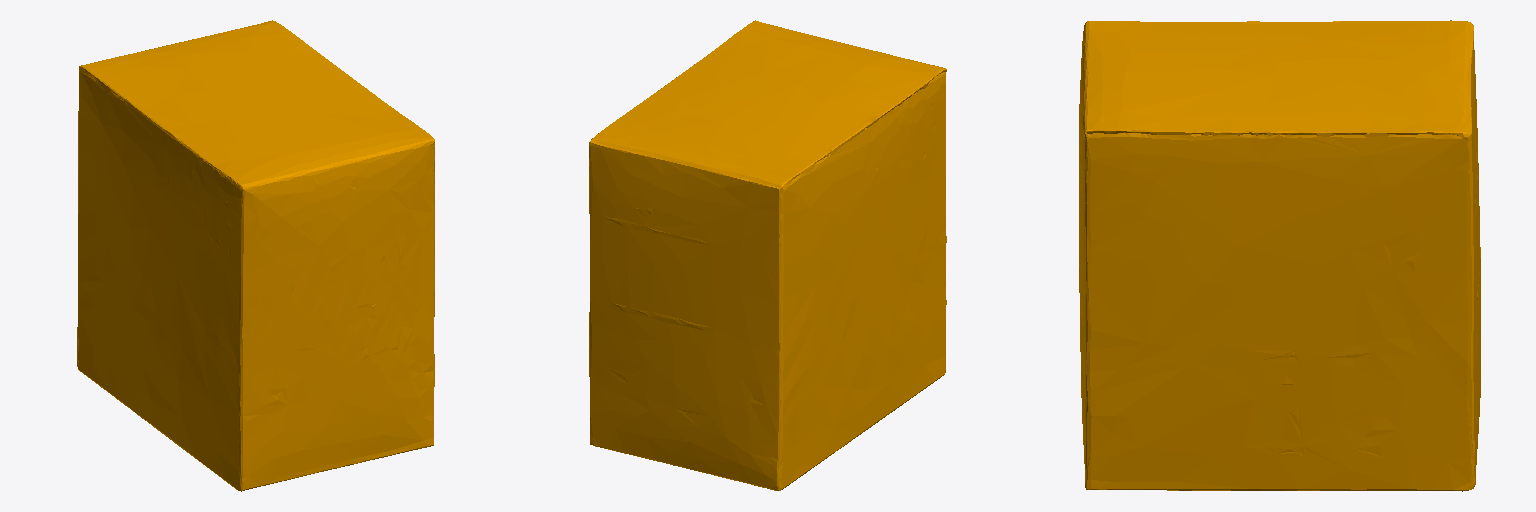
robot.urdf — Whey_Protein_Vanilla_12_Packets:

<robot name="Whey_Protein_Vanilla_12_Packets">
    <link name="base">
        <inertial>
            <origin xyz="-1.8597612255748765e-18 1.8597612255748765e-18 0.0" />
            <mass value="0.0024290801366861027" />
            <inertia ixx="9.484500130978977e-06" ixy="-9.43417201880489e-09" 
                     ixz="-1.6531240636526768e-10" iyy="6.9104506556242484e-06" 
                     iyz="2.690555408703888e-08" izz="6.831884221215333e-06" />
        </inertial>
        <visual>
            <origin xyz="0 0 0" />
            <geometry>
                <mesh filename="visual_geometry.obj" />
            </geometry>
        </visual>
        <collision>
            <origin xyz="0 0 0" />
            <geometry>
                <mesh filename="collision_geometry.obj" />
            </geometry>
        </collision>
    </link>
</robot>

--- Render facts (derived) ---
3 views of the same robot in one strip: view 1: azimuth 30°, elevation 25°; view 2: azimuth 150°, elevation 25°; view 3: azimuth 270°, elevation 25° (orthographic).
Model Whey_Protein_Vanilla_12_Packets with 1 links and 0 joints (none), rooted at base, posed every joint at zero.
Links seen in each view (by area): view 1: base; view 2: base; view 3: base.
Link boxes in pixels (bbox=[...]): base: bbox=[77, 20, 434, 491]; base: bbox=[589, 20, 946, 490]; base: bbox=[1079, 20, 1480, 491].
Bounding box of the posed robot: 0.1045 × 0.1557 × 0.1556 m (x, y, z).
Meshes: 1 distinct files referenced, 1 mesh visuals loaded (1 OBJ).